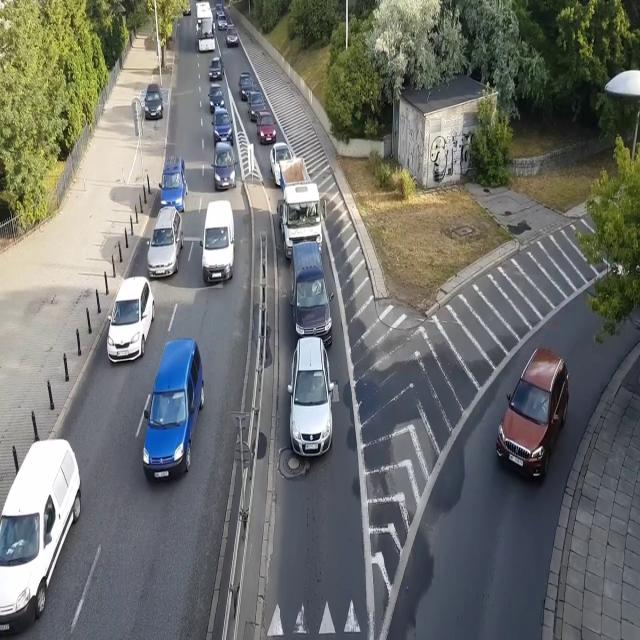bus: (194, 2, 217, 54)
car: (496, 343, 571, 487), (286, 337, 336, 456), (211, 140, 238, 191), (268, 142, 294, 188), (210, 108, 233, 144), (256, 111, 278, 144), (144, 83, 163, 121), (207, 83, 226, 113), (247, 89, 266, 118), (238, 71, 256, 101), (207, 54, 225, 80), (224, 22, 239, 48), (180, 2, 191, 18), (215, 1, 225, 16), (218, 15, 228, 29)
truck: (276, 158, 328, 260)
van: (0, 436, 82, 640), (141, 339, 206, 483), (288, 238, 335, 352), (199, 201, 236, 285), (159, 153, 189, 213)
